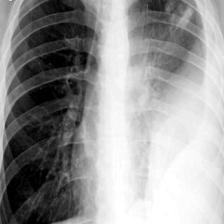tuberculosis: (2, 1, 210, 224)
